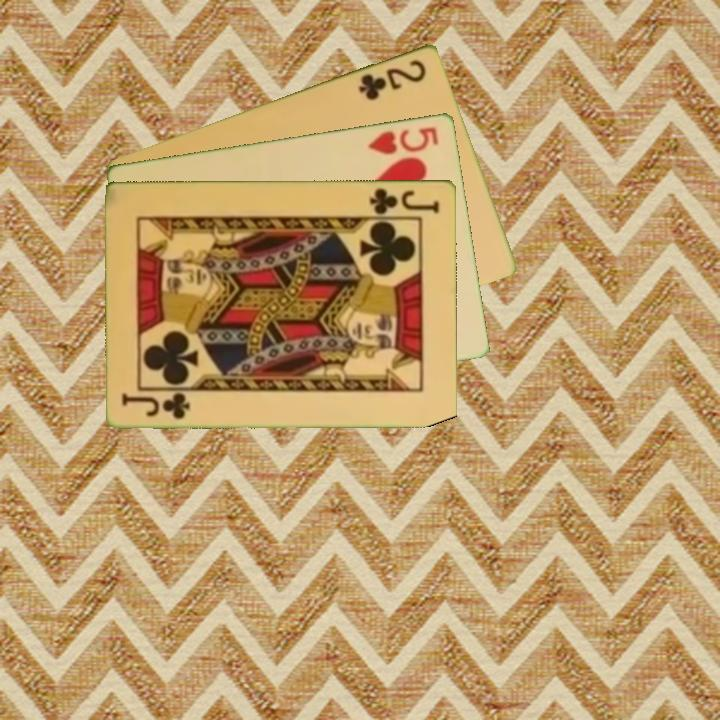2c: (355, 55, 430, 103)
5h: (365, 123, 442, 157)
Jc: (366, 184, 443, 217), (119, 390, 193, 422)
